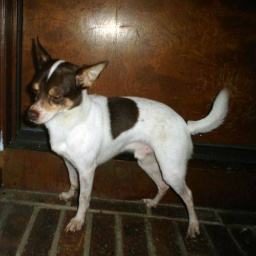dog: (21, 37, 232, 242)
